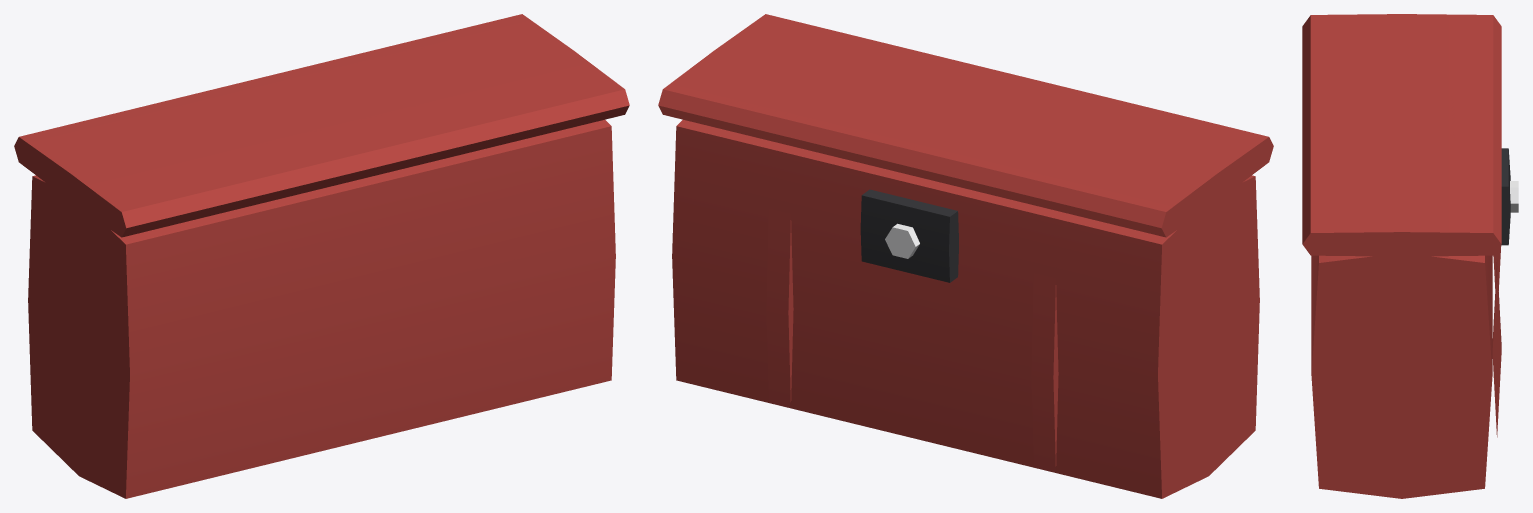
File: toolbox_lod1.glb
3 views of the same model, side by side, from view 1: azimuth 30°, elevation 25°; view 2: azimuth 150°, elevation 25°; view 3: azimuth 270°, elevation 25° (orthographic). The views are drawn at different scales.
Parts seen in each view (by area): view 1: toolbox_lod1; view 2: toolbox_lod1; view 3: toolbox_lod1.
Boxes of the visible parts, box(x1,y1,x2,y2) form: toolbox_lod1: box(14, 14, 629, 498); toolbox_lod1: box(658, 14, 1273, 498); toolbox_lod1: box(1302, 14, 1518, 498).
Bounding box in the file's own units: 0.228 × 0.132 × 0.0955.
